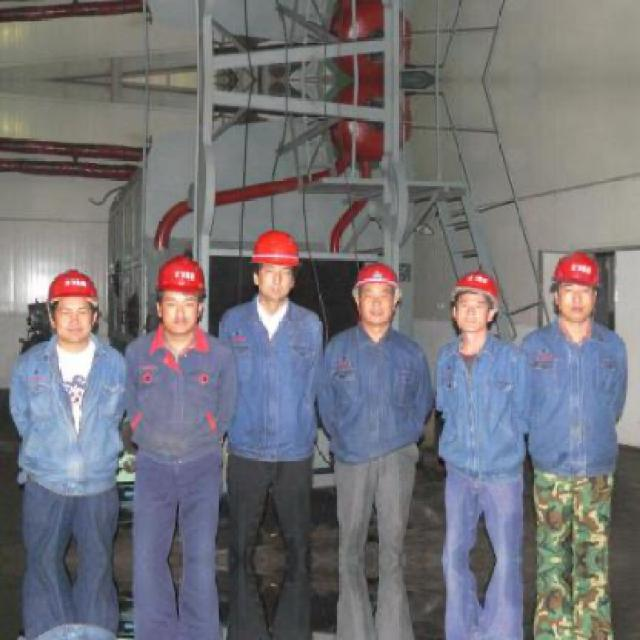helmet: (43, 263, 103, 345), (246, 223, 305, 305), (446, 264, 508, 342), (155, 248, 208, 337), (548, 248, 604, 326), (348, 257, 406, 332)
